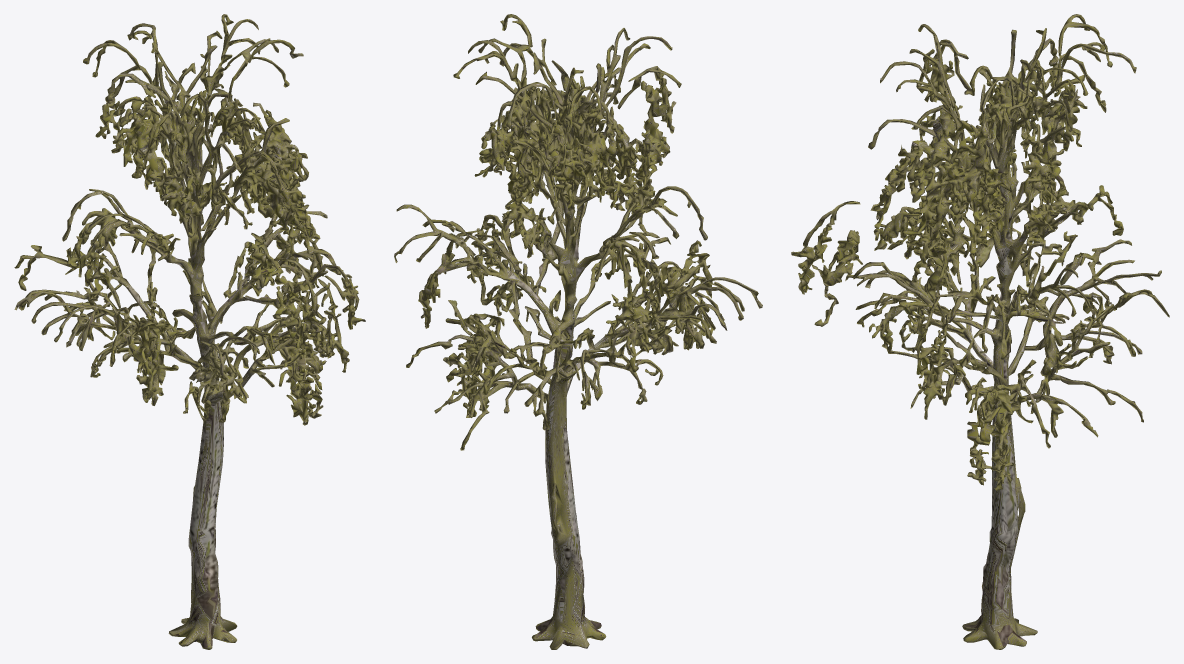
The model's file is betula-utilis-l0.glb.
3 renders of one model, left to right at view 1: azimuth 30°, elevation 25°; view 2: azimuth 150°, elevation 25°; view 3: azimuth 270°, elevation 25°, orthographic.
Parts seen in each view (by area): view 1: world; view 2: world; view 3: world.
Part boxes in pixels (left/top/right/bottom): world: left=14, top=14, right=365, bottom=649; world: left=394, top=14, right=762, bottom=649; world: left=791, top=14, right=1169, bottom=649.
Size of the model in its own units: 6.59 by 12 by 6.88.
1 material, 1 textured.
